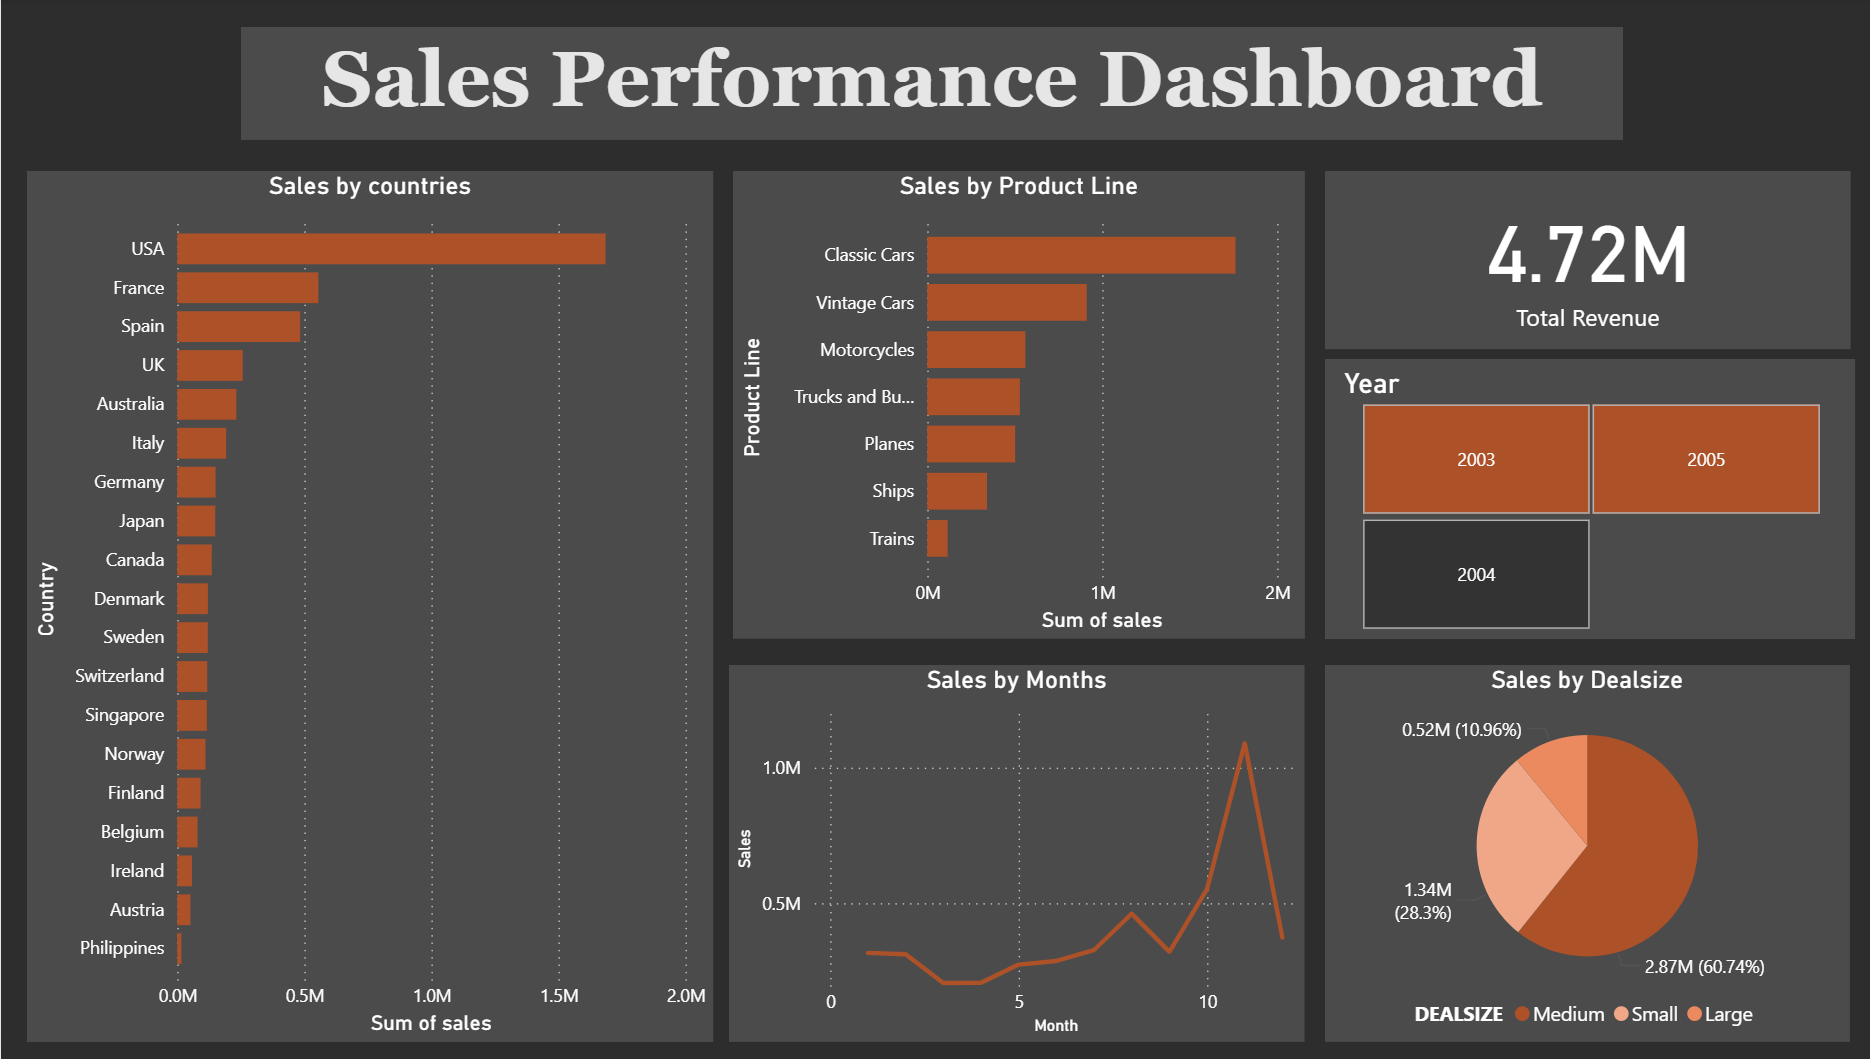

This screenshot's page, from the dashboard's own definition file:
{"tool":"powerbi","page":{"name":"Page 1","canvas":[1275,727],"ordinal":0},"visuals":[{"type":"barChart","fields":{"Category":["sales_data_sample.PRODUCTLINE"],"Y":["Sum(sales_data_sample.SALES)"]},"box":[499.2,118.7,390.1,319.2],"z":0},{"type":"barChart","title":"Sales by countries","fields":{"Category":["sales_data_sample.COUNTRY"],"Y":["Sum(sales_data_sample.SALES)"]},"box":[17.3,118.2,468.1,594.2],"z":1},{"type":"lineChart","title":"Sales by Months","fields":{"Category":["sales_data_sample.MONTH_ID"],"Y":["Sum(sales_data_sample.SALES)"]},"box":[496.4,455.5,392.4,256.9],"z":2},{"type":"pieChart","title":"Sales by Dealsize","fields":{"Category":["sales_data_sample.DEALSIZE"],"Y":["Sum(sales_data_sample.SALES)"]},"box":[903.1,455.5,357.8,256.9],"z":3},{"type":"textbox","box":[163.9,20.5,942.5,77.2],"z":4},{"type":"card","title":"Total Revenue","fields":{"Values":["Sum(sales_data_sample.SALES)"]},"box":[903,118.7,358.7,121.4],"z":5},{"type":"slicer","fields":{"Values":["sales_data_sample.YEAR_ID"]},"box":[903,246.9,361.5,191],"z":6}]}

Visuals, with their boxes in screenshot pixels (x1, y1, x2, y2), scaled from the page's 1275x727 canvas onto the 1870x1059 screenshot:
barChart - sales_data_sample.PRODUCTLINE x Sum(sales_data_sample.SALES): 732,173,1304,638
"Sales by countries" barChart: 25,172,712,1038
"Sales by Months" lineChart: 728,664,1304,1038
"Sales by Dealsize" pieChart: 1325,664,1849,1038
textbox: 240,30,1623,142
"Total Revenue" card: 1324,173,1850,350
slicer - sales_data_sample.YEAR_ID: 1324,360,1855,638
